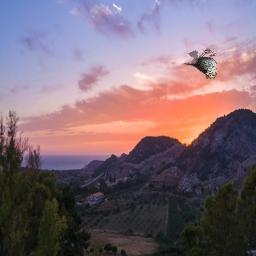Sparrow: (185, 49, 218, 80)
